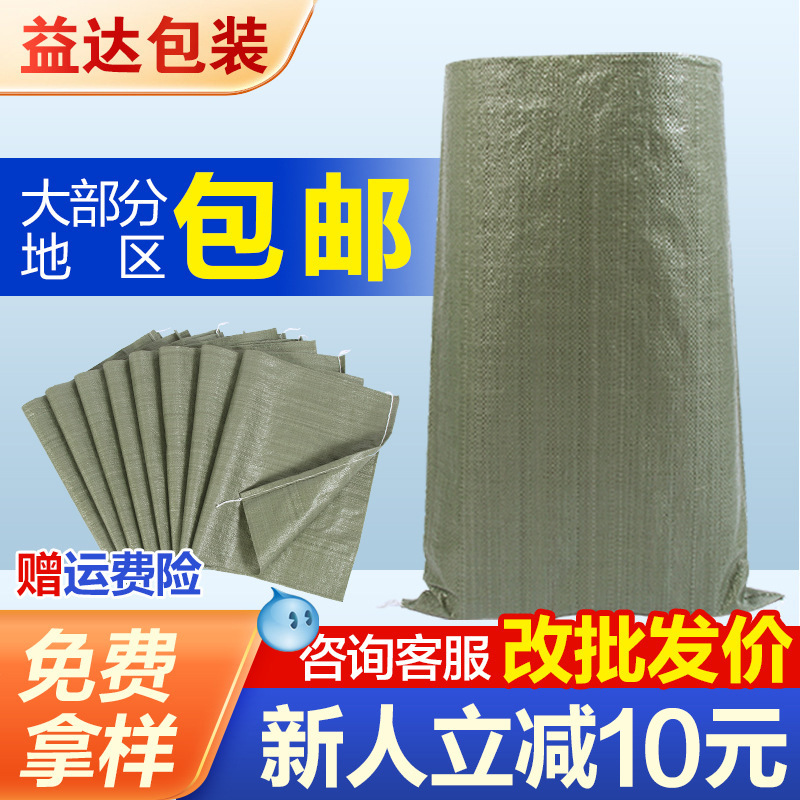Parcel: (404, 53, 780, 618)
